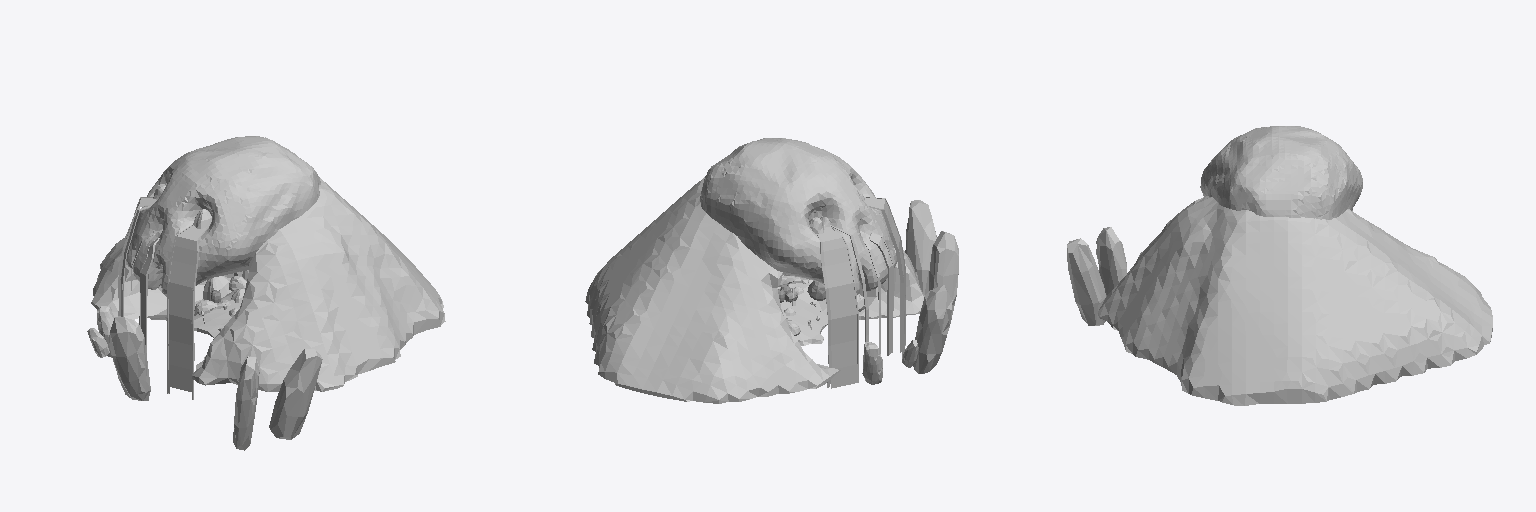
The model's file is skull island.obj.
3 renders of one model, left to right at view 1: azimuth 30°, elevation 25°; view 2: azimuth 150°, elevation 25°; view 3: azimuth 270°, elevation 25°, orthographic.
Visible parts, largest first — view 1: Cylinder_Cylinder.002, Cube_Cube.001, Cube.004, Plane.001, Cube.001_Cube.012, Plane.009_Plane.010; view 2: Cylinder_Cylinder.002, Cube_Cube.001, Plane.020_Plane.023, Cube.004, Cube.001_Cube.012, Plane.009_Plane.010, Cube.003_Cube.013, Plane.021_Plane.024, Plane.001; view 3: Cylinder_Cylinder.002, Cube_Cube.001, Cube.004.
Part boxes in pixels (left/top/right/bottom): Cylinder_Cylinder.002: left=91, top=178, right=445, bottom=391; Cube_Cube.001: left=126, top=136, right=320, bottom=296; Cube.004: left=233, top=349, right=322, bottom=450; Plane.001: left=168, top=225, right=205, bottom=391; Cube.001_Cube.012: left=109, top=316, right=150, bottom=400; Plane.009_Plane.010: left=153, top=184, right=246, bottom=339; Cylinder_Cylinder.002: left=585, top=177, right=924, bottom=403; Cube_Cube.001: left=700, top=138, right=896, bottom=294; Plane.020_Plane.023: left=817, top=227, right=857, bottom=388; Cube.004: left=905, top=200, right=958, bottom=323; Cube.001_Cube.012: left=913, top=285, right=952, bottom=373; Plane.009_Plane.010: left=778, top=189, right=864, bottom=335; Cube.003_Cube.013: left=862, top=342, right=882, bottom=384; Plane.021_Plane.024: left=869, top=233, right=892, bottom=355; Plane.001: left=864, top=197, right=904, bottom=352; Cylinder_Cylinder.002: left=1098, top=196, right=1492, bottom=405; Cube_Cube.001: left=1200, top=126, right=1362, bottom=219; Cube.004: left=1067, top=227, right=1126, bottom=325.
Bounding box in the file's own units: 3.17 × 2.08 × 3.56.